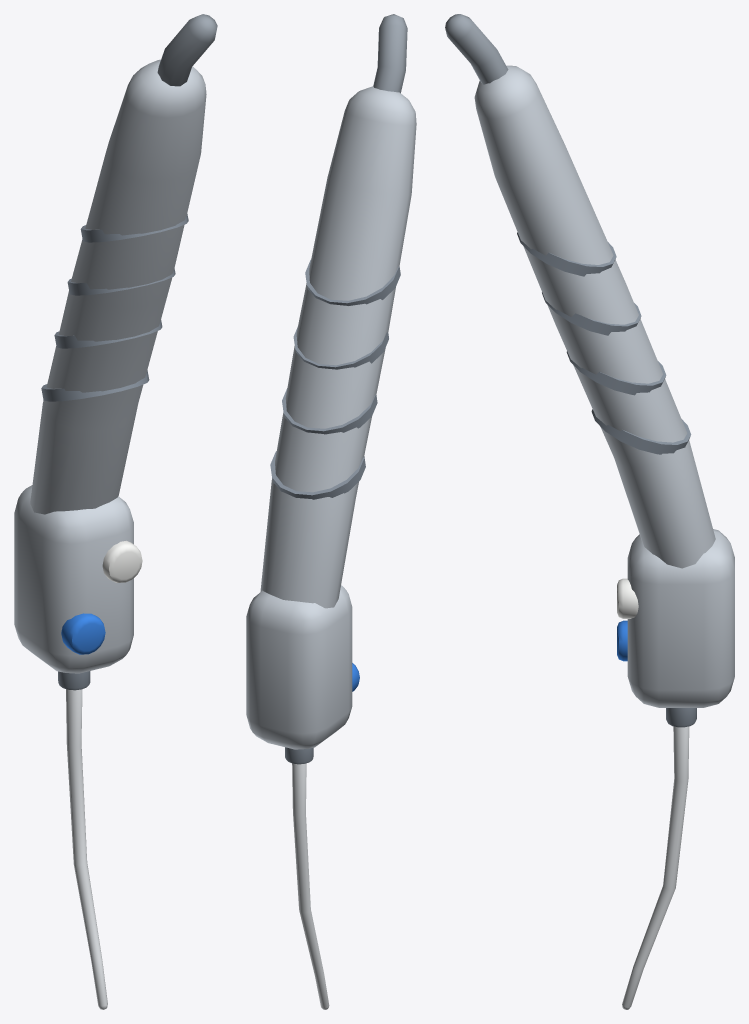
The model's file is tool_syringe.glb.
3 renders of one model, left to right at view 1: azimuth 30°, elevation 25°; view 2: azimuth 150°, elevation 25°; view 3: azimuth 270°, elevation 25°, orthographic. The views are drawn at different scales.
Parts seen in each view (by area): view 1: tool_syringe; view 2: tool_syringe; view 3: tool_syringe.
Boxes of the visible parts, <box> form: tool_syringe: <box>14,14,217,1009</box>; tool_syringe: <box>246,14,416,1009</box>; tool_syringe: <box>445,14,734,1009</box>.
Size of the model in its own units: 0.86 by 9.27 by 2.44.
